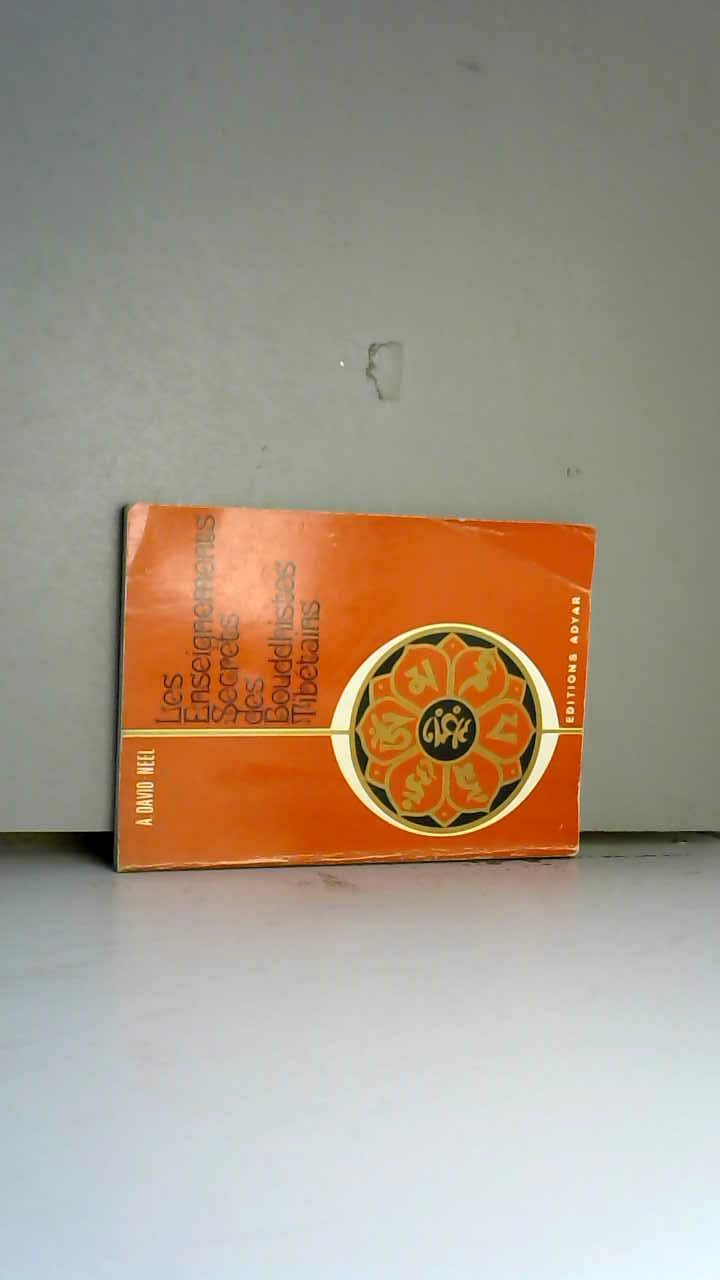book: (95, 481, 612, 892)
